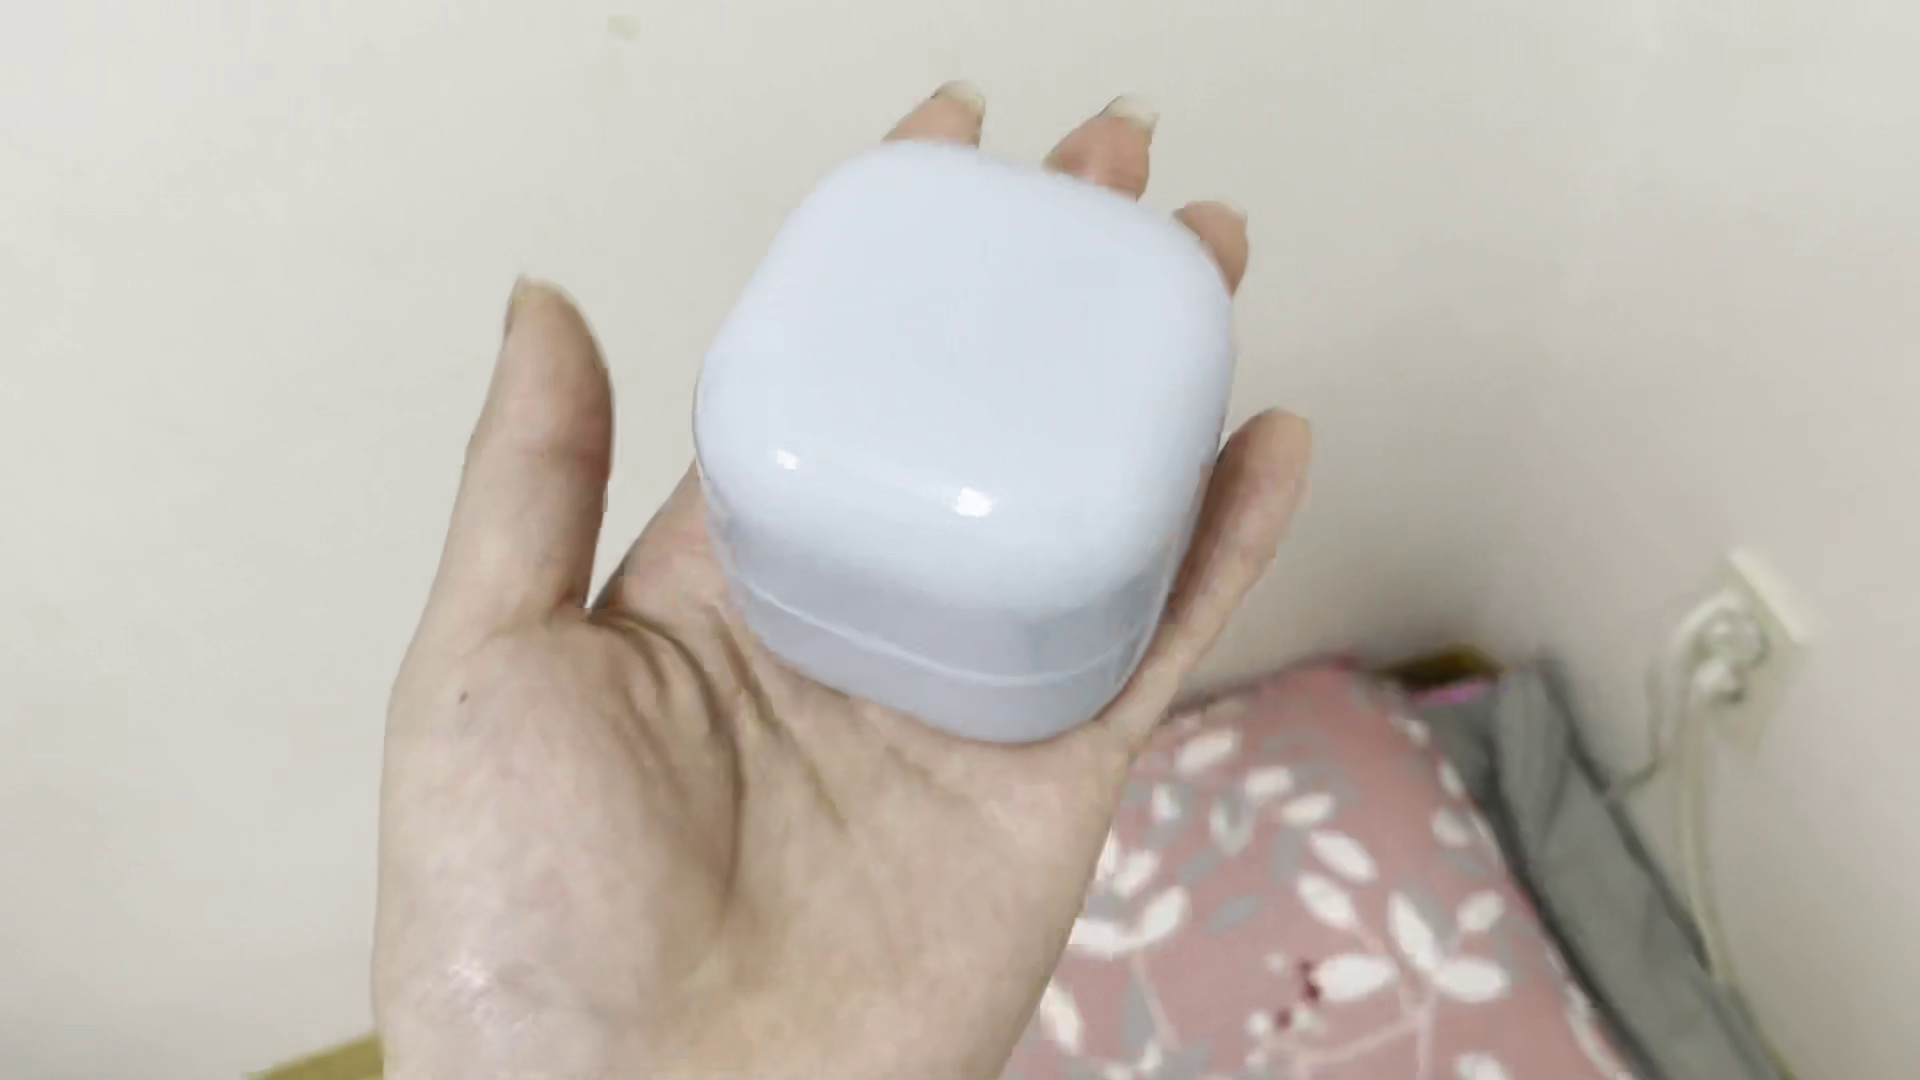cream: (688, 137, 1238, 737)
